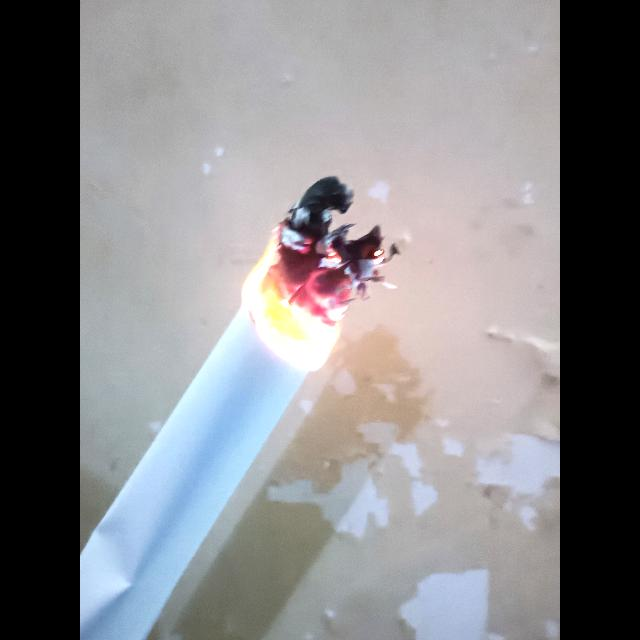fire: (242, 178, 397, 370)
